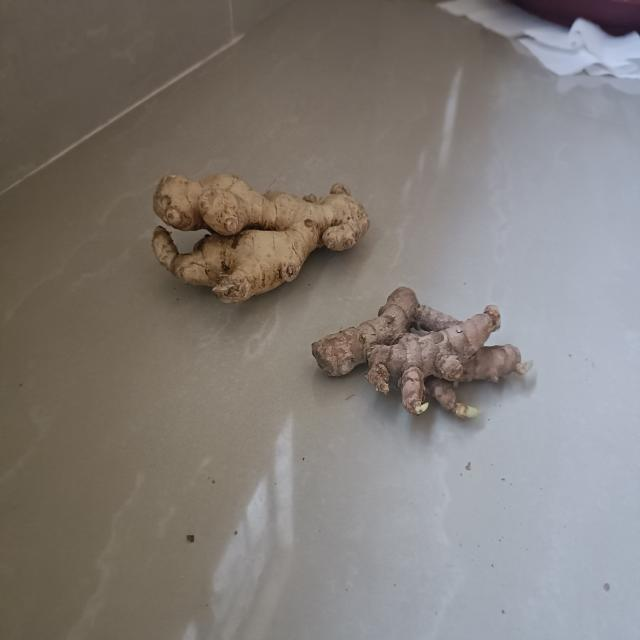ginger: (310, 279, 530, 429), (154, 169, 371, 303)
